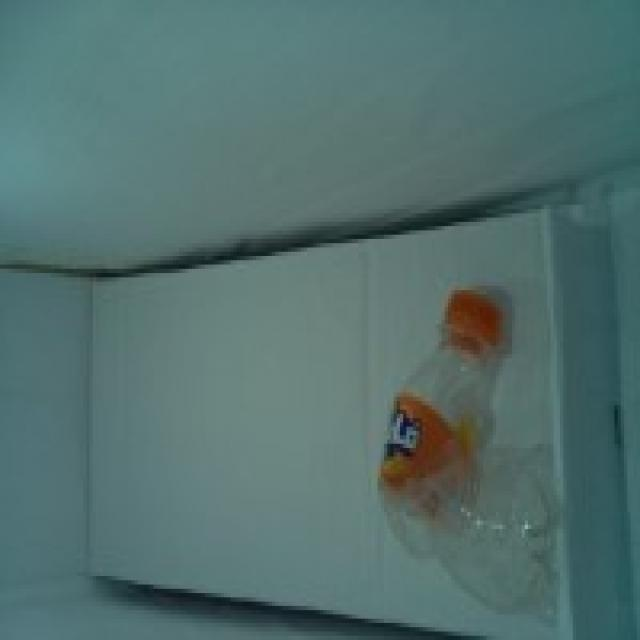bottle: (378, 288, 562, 616)
